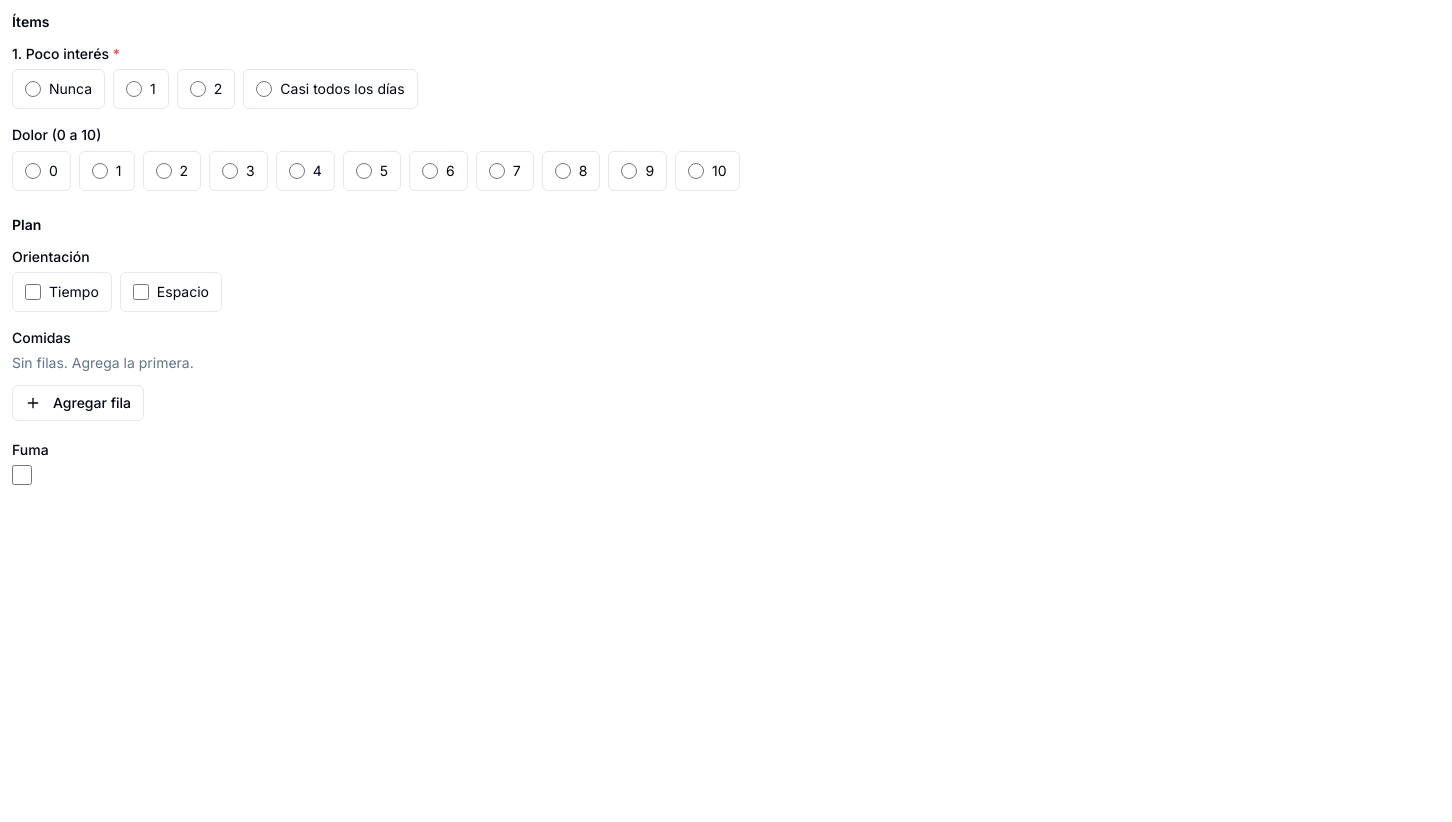
Test case: ClinicalModuleForm › shows the issue of a table cell next to it
Click the button "Agregar fila".
click(78, 403)  # box [12, 385, 144, 421]
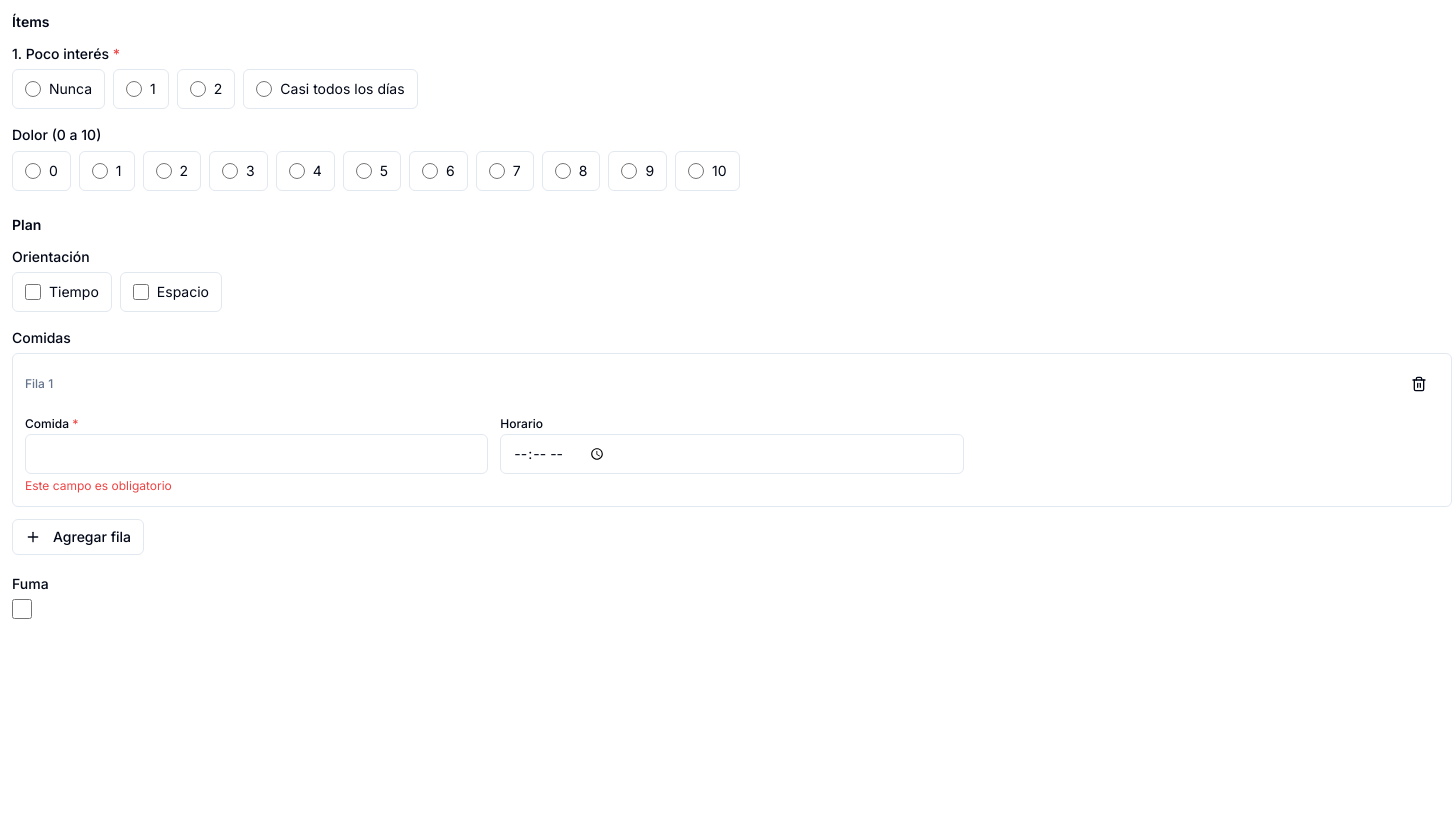
Expected: the text "Este campo es obligatorio" is shown, [25, 478, 172, 493]
